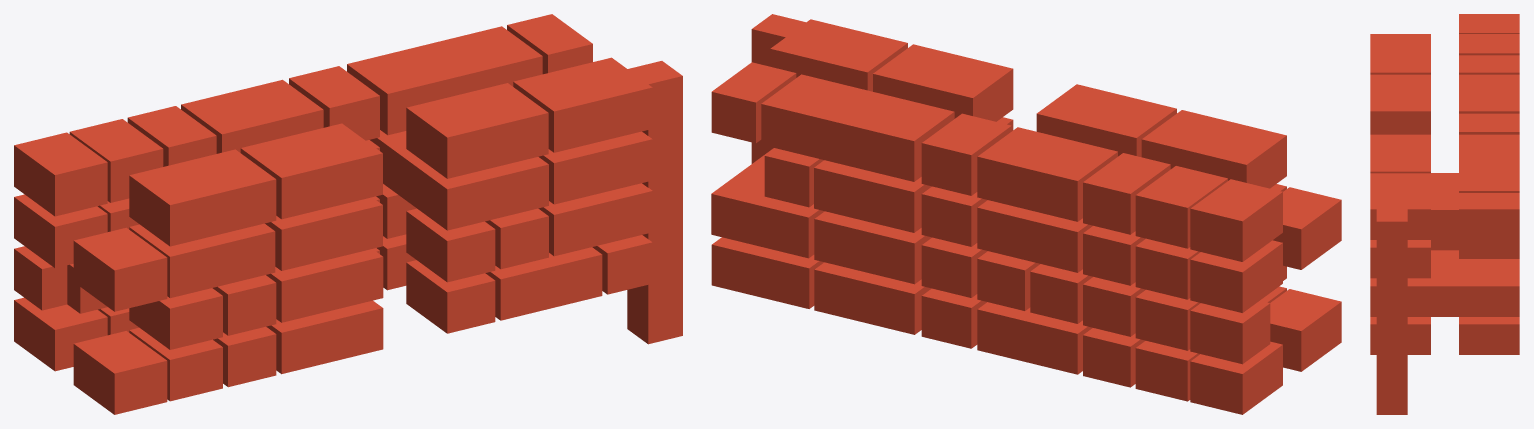
Rendered from building_rooms.glb.
3 views of the same model, side by side, from view 1: azimuth 30°, elevation 25°; view 2: azimuth 150°, elevation 25°; view 3: azimuth 270°, elevation 25° (orthographic). The views are drawn at different scales.
Visible parts, largest first — view 1: room_3_03, elevator, room_3_08, room_3_09, room_2_09, room_3_06, room_3_10, room_3_05, room_2_04, room_0_02, room_2_02, room_3_01 (+25 smaller); view 2: room_3_08, room_3_05, room_3_03, room_3_09, room_1_14, room_3_06, room_3_10, room_3_01, room_2_09, room_1_12, room_0_09, room_2_06 (+24 smaller); view 3: room_1_14, elevator, room_3_06, room_3_08, room_3_10, room_3_11, room_3_03, room_3_09, room_3_05, room_0_12, room_2_09, room_3_02 (+7 smaller).
Boxes of the visible parts, x1,y1,x2,y2 form: room_3_03: (129,149,276,246); elevator: (627,61,682,344); room_3_08: (347,26,542,135); room_3_09: (406,83,548,178); room_2_09: (370,130,548,230); room_3_06: (240,123,382,219); room_3_10: (513,57,652,152); room_3_05: (181,79,323,153); room_2_04: (129,223,275,298); room_0_02: (73,331,167,414); room_2_02: (73,227,167,311); room_3_01: (14,132,107,216); room_3_08: (761,74,954,181); room_3_05: (977,127,1117,221); room_3_03: (1141,110,1286,188); room_3_09: (873,44,1013,121); room_1_14: (711,148,824,258); room_3_06: (1036,84,1176,157); room_3_10: (770,19,907,91); room_3_01: (1190,179,1282,261); room_2_09: (814,117,1013,232); room_1_12: (814,211,931,284); room_0_09: (814,262,931,334); room_2_06: (977,200,1092,272); room_1_14: (1370,250,1519,316); elevator: (1376,209,1407,414); room_3_06: (1370,74,1430,134); room_3_08: (1459,134,1519,192); room_3_10: (1370,173,1430,239); room_3_11: (1459,193,1519,239); room_3_03: (1370,34,1430,74); room_3_09: (1370,134,1430,173); room_3_05: (1459,74,1519,113); room_0_12: (1459,317,1519,354); room_2_09: (1431,173,1458,240); room_3_02: (1459,34,1519,55).
Size of the model in its own units: 38.38 by 16.65 by 11.65.
